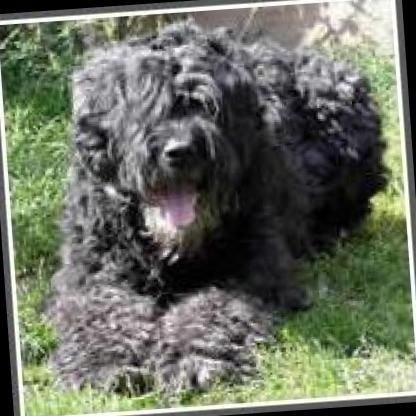Bouvier_des_Flandres: (28, 2, 404, 406)
